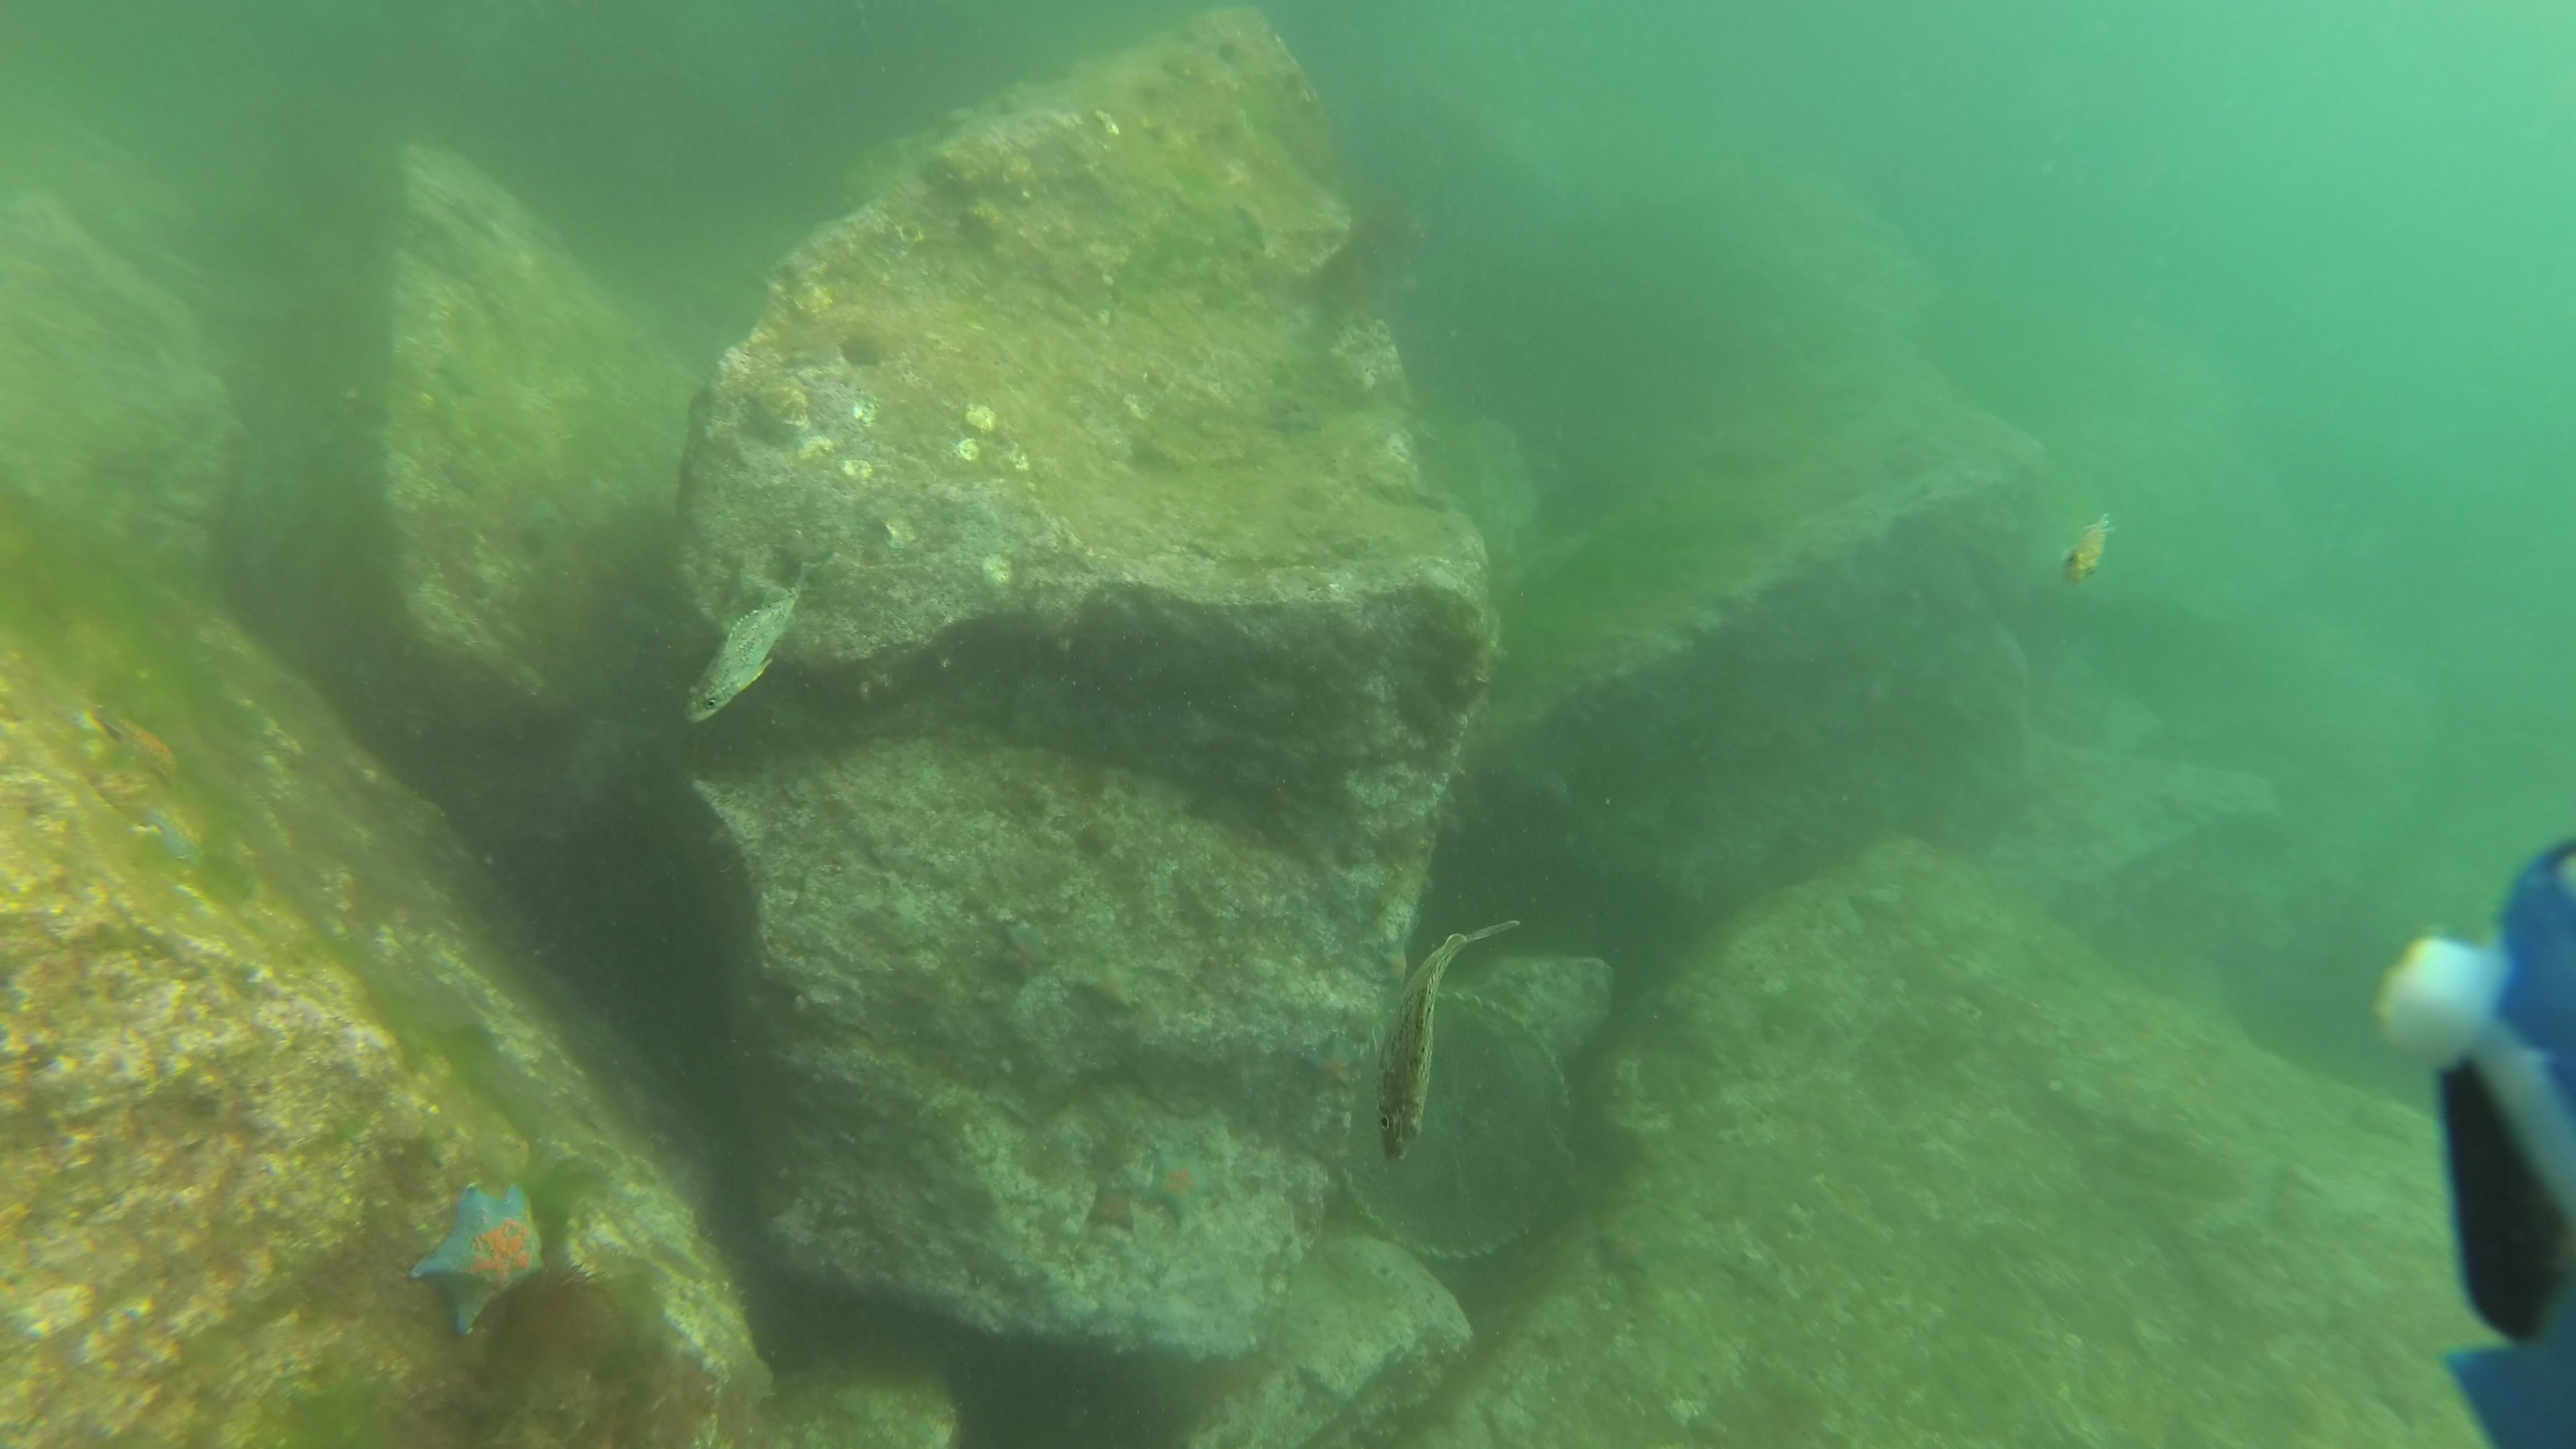echinus: (485, 1253, 612, 1364)
starfish: (414, 1171, 550, 1339), (90, 694, 186, 789), (1146, 1143, 1223, 1230), (133, 794, 212, 870), (1583, 1214, 1668, 1279), (1293, 1026, 1369, 1099), (1067, 952, 1148, 1019), (1720, 1244, 1794, 1309), (1085, 1173, 1139, 1235), (1371, 936, 1414, 993)
